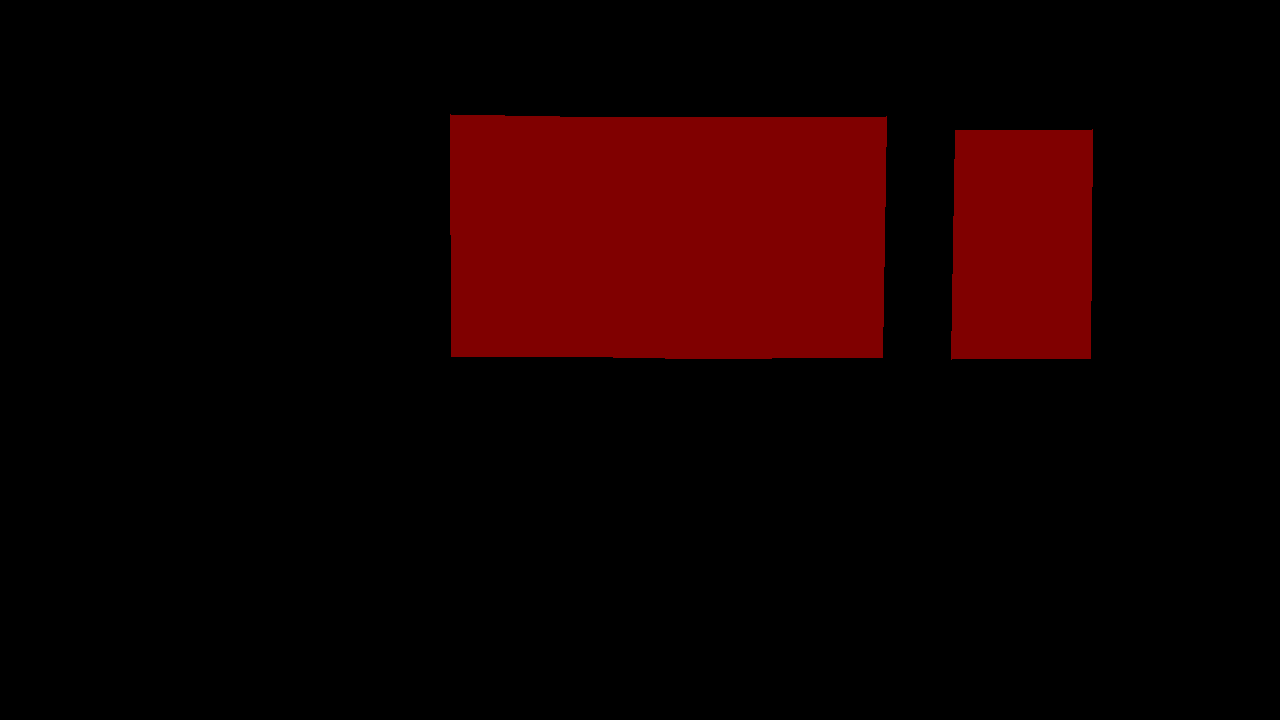door: (951, 129, 1092, 359), (771, 116, 886, 358), (665, 117, 776, 358), (450, 114, 559, 356), (559, 116, 667, 358)
